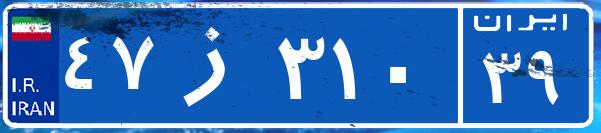0: (385, 28, 445, 110)
1: (330, 28, 385, 110)
3: (273, 28, 330, 110), (475, 38, 525, 113)
4: (57, 26, 110, 107)
7: (110, 28, 158, 105)
9: (525, 38, 570, 115)
ز: (158, 15, 273, 115)
